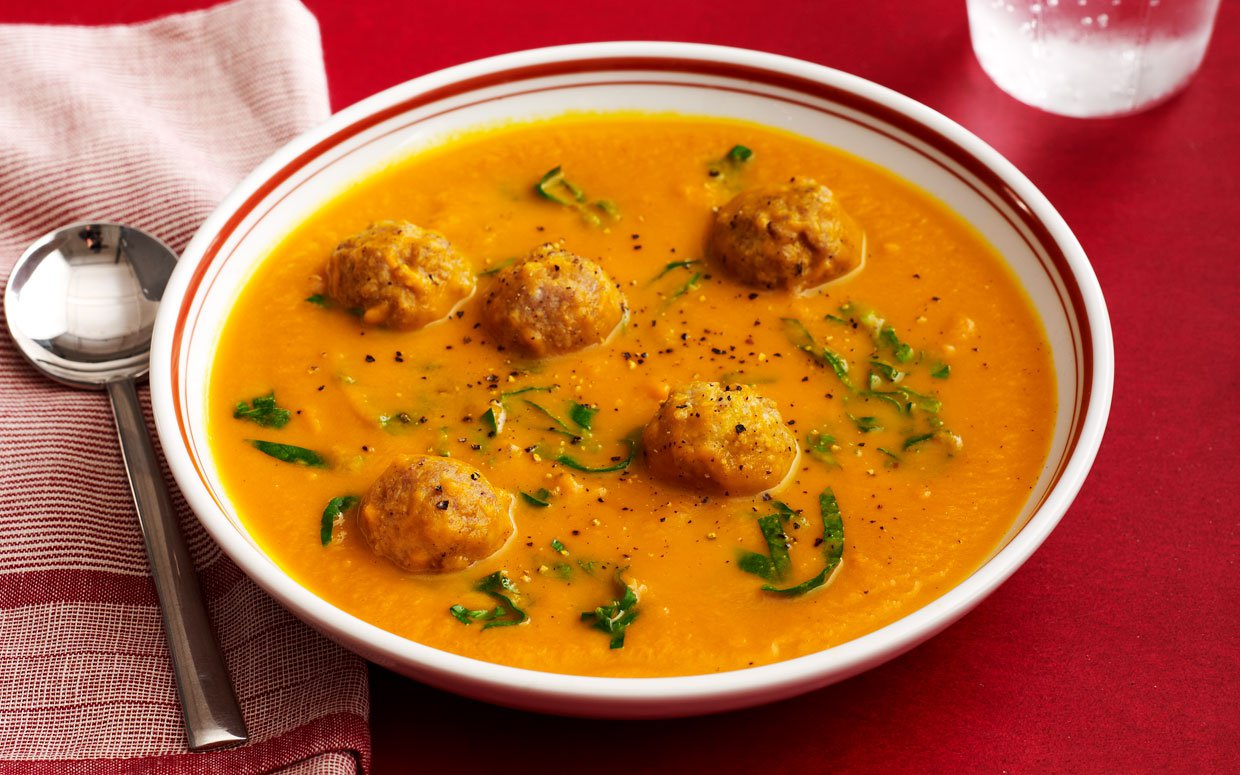glass of water: (963, 1, 1222, 119)
meatballs: (703, 184, 862, 299), (640, 377, 799, 488), (360, 453, 507, 571), (322, 221, 460, 332), (494, 241, 620, 350)
